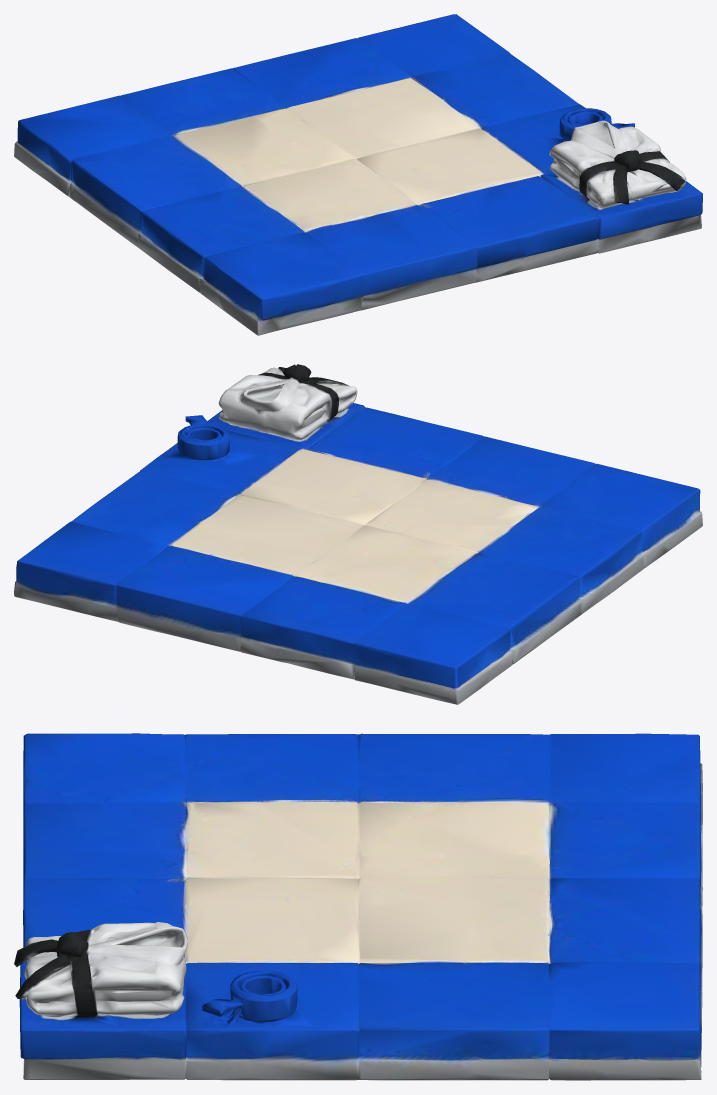
File: judo.glb
3 renders of one model, top to bottom at view 1: azimuth 30°, elevation 25°; view 2: azimuth 150°, elevation 25°; view 3: azimuth 270°, elevation 25°, orthographic. The views are drawn at different scales.
Parts seen in each view (by area): view 1: tripo_node_757863a6-51a1-47ab-bfce-97a04ac1fccf; view 2: tripo_node_757863a6-51a1-47ab-bfce-97a04ac1fccf; view 3: tripo_node_757863a6-51a1-47ab-bfce-97a04ac1fccf.
Boxes of the visible parts, x1,y1,x2,y2 form: tripo_node_757863a6-51a1-47ab-bfce-97a04ac1fccf: (14, 14, 702, 335); tripo_node_757863a6-51a1-47ab-bfce-97a04ac1fccf: (14, 364, 702, 704); tripo_node_757863a6-51a1-47ab-bfce-97a04ac1fccf: (14, 733, 702, 1080).
Bounding box in the file's own units: 0.9999 × 0.1681 × 0.9662.
Materials: 1 (1 with a texture image).
